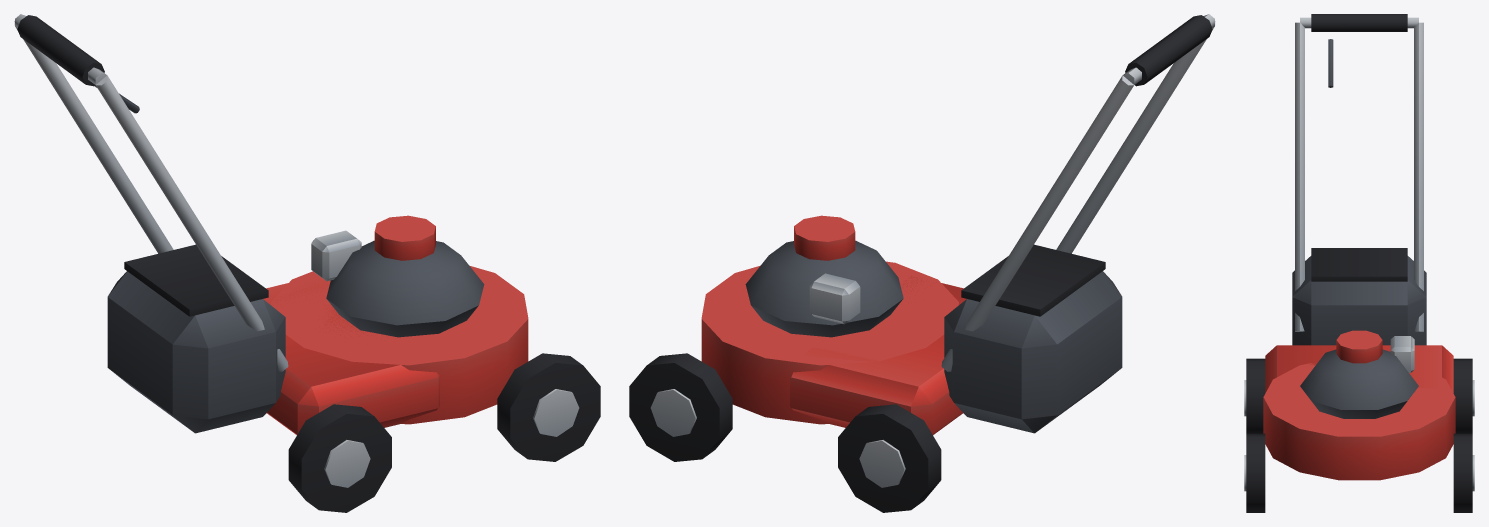
File: ck_lawn_mower.fbx
3 views of the same model, side by side, from view 1: azimuth 30°, elevation 25°; view 2: azimuth 150°, elevation 25°; view 3: azimuth 270°, elevation 25° (orthographic). The views are drawn at different scales.
Parts seen in each view (by area): view 1: ck_lawn_mower; view 2: ck_lawn_mower; view 3: ck_lawn_mower.
Boxes of the visible parts, left/top/right/bottom form: ck_lawn_mower: left=14, top=14, right=600, bottom=512; ck_lawn_mower: left=629, top=14, right=1215, bottom=512; ck_lawn_mower: left=1244, top=14, right=1474, bottom=512.
Size of the model in its own units: 390 by 369 by 223.
